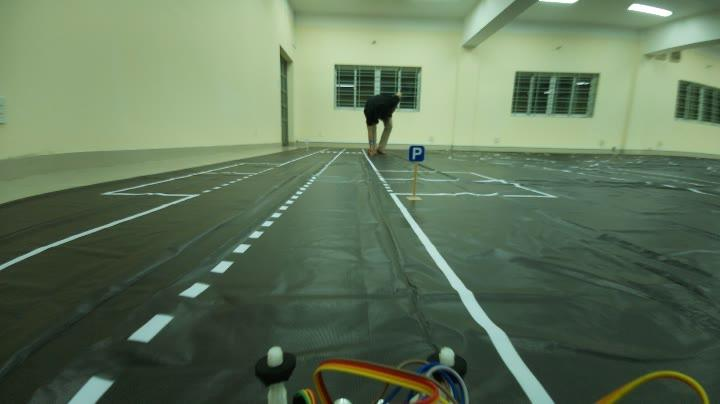parking: (406, 140, 430, 168)
